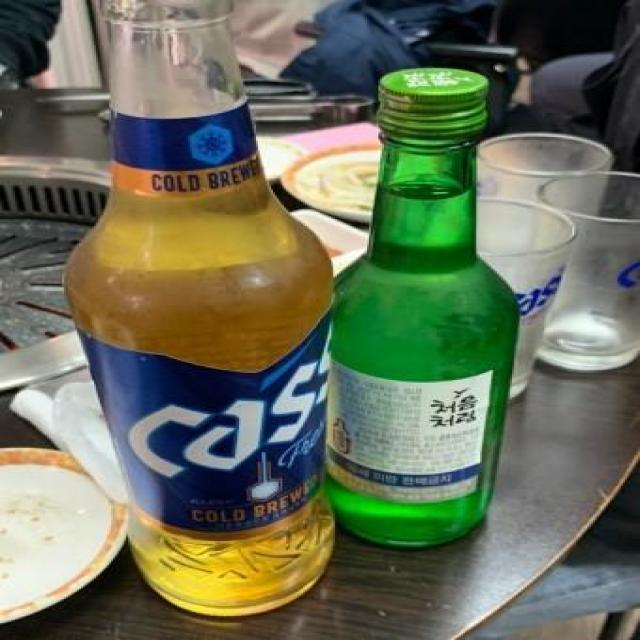beer-bottle: (47, 0, 345, 627)
soju-bottle: (330, 60, 530, 562)
